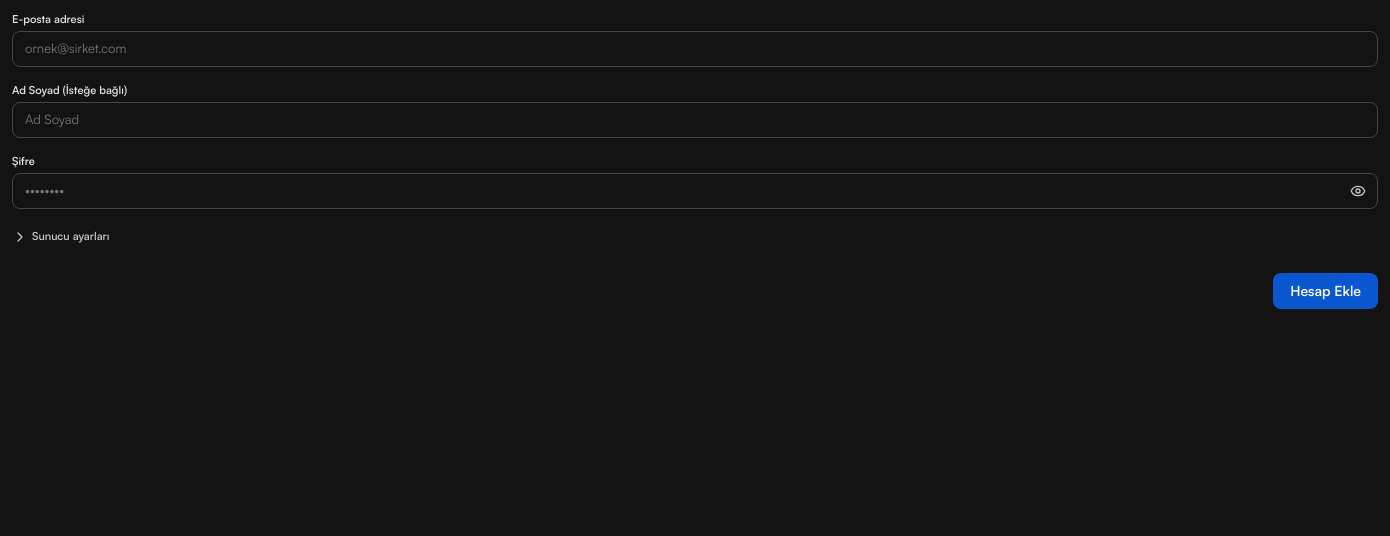
Test: Shared Account Setup Form (Parity Fix) › 6. updates port defaults when switching IMAP and SMTP security modes
The width and height of the screenshot is (1390, 536).
Click the button "Sunucu ayarları" at (61, 237), box [12,225,109,249]
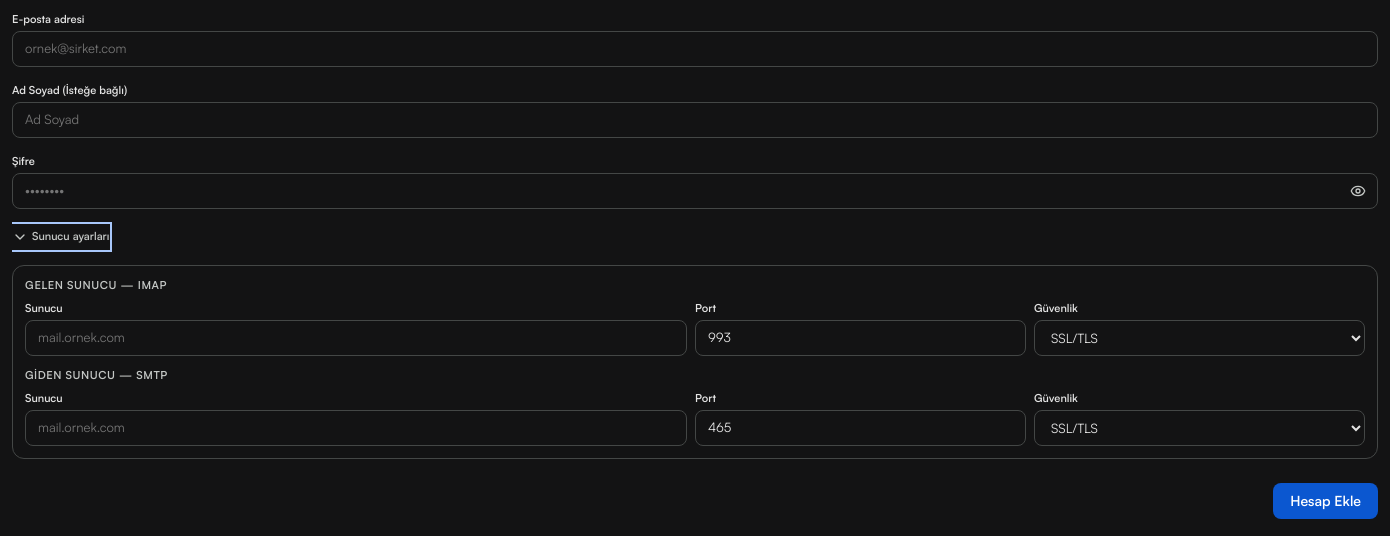
Check: the number field with id "add-account-imap-port" holds "993", box [695,320,1026,356]
Select "STARTTLS" in the dropdown with id "add-account-imap-security" at (1200, 338), box [1034,320,1365,356]
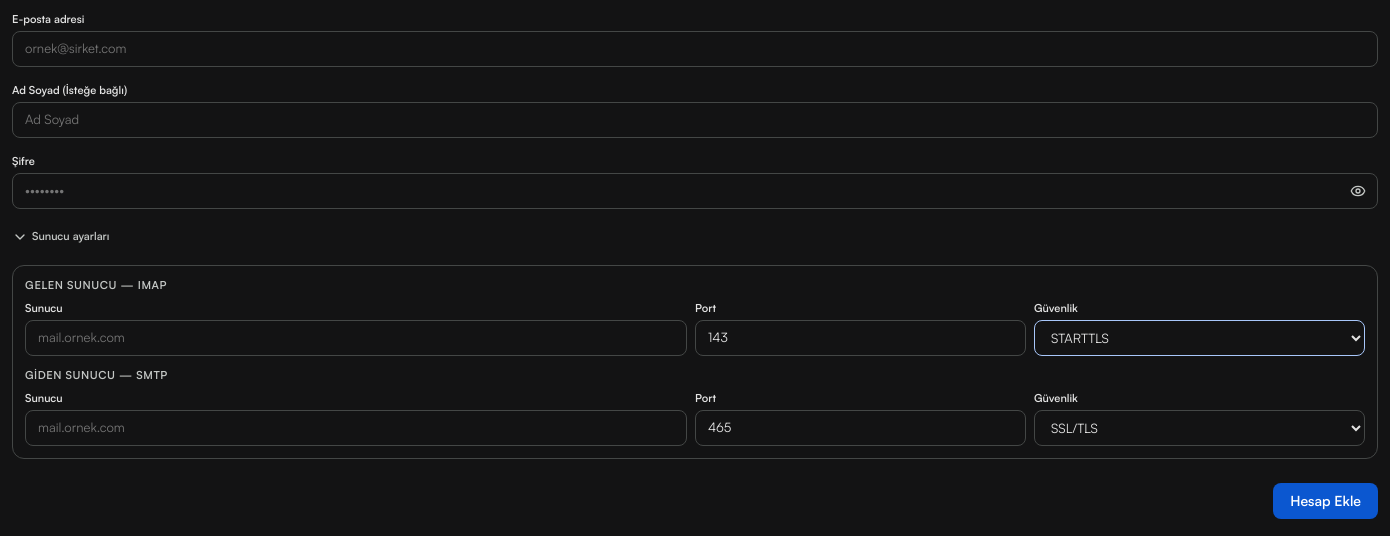
Check: the number field with id "add-account-smtp-port" holds "465", box [695,410,1026,446]
Check: the number field with id "add-account-imap-port" holds "143", box [695,320,1026,356]
Select "STARTTLS" in the dropdown with id "add-account-smtp-security" at (1200, 428), box [1034,410,1365,446]
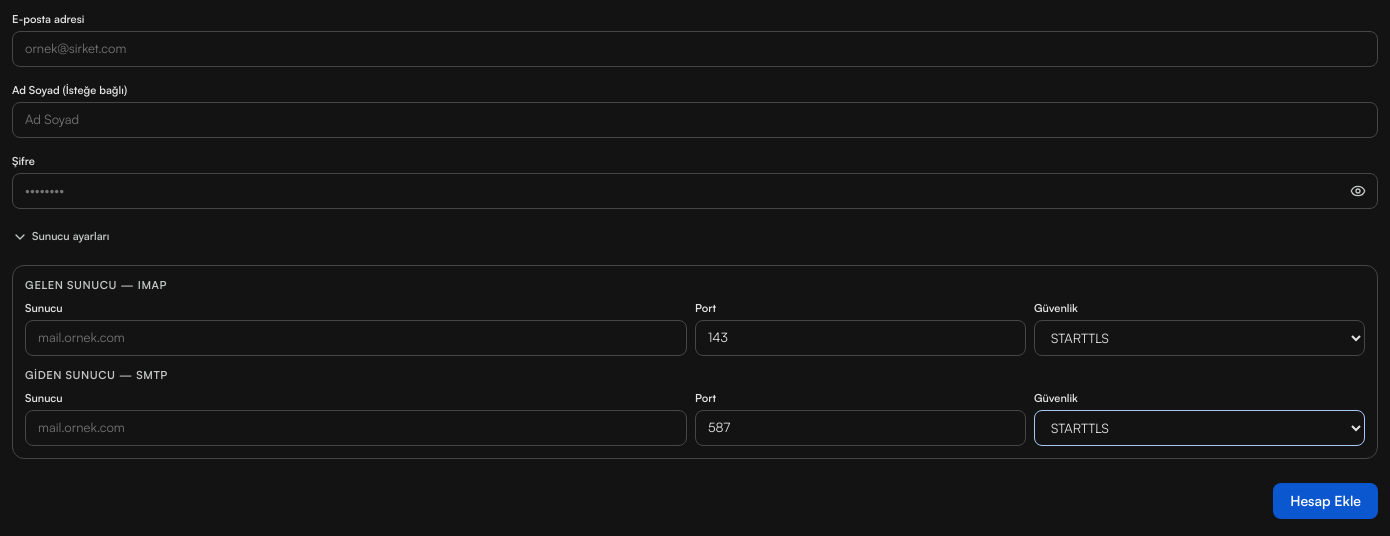
Check: the number field with id "add-account-smtp-port" holds "587", box [695,410,1026,446]
